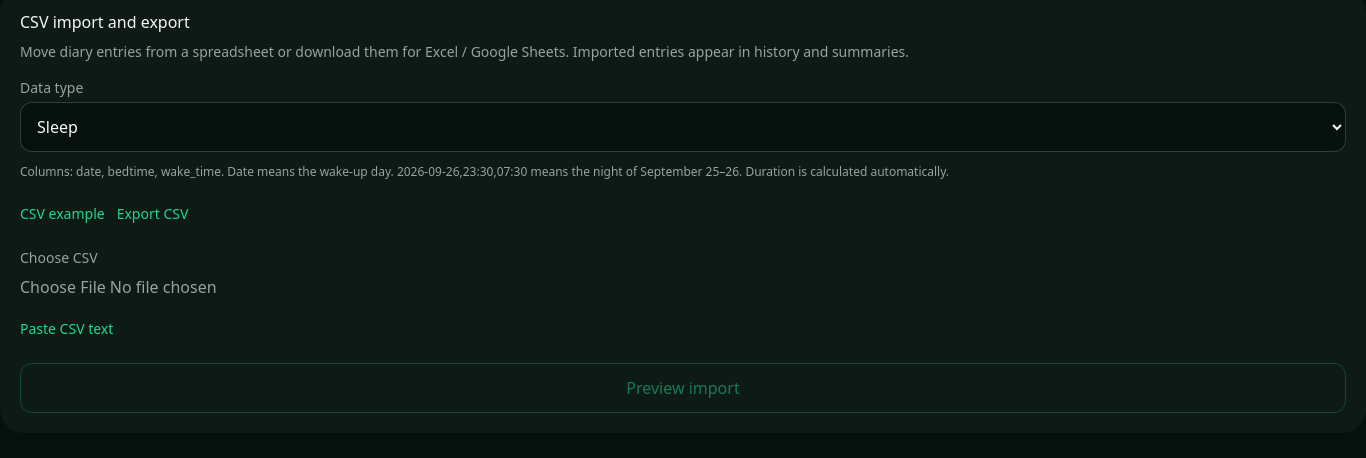
it: exports the selected diary as a CSV download
Select "Screen Time" in the dropdown labelled "Data type". click: (683, 127)
box: [20,102,1346,152]
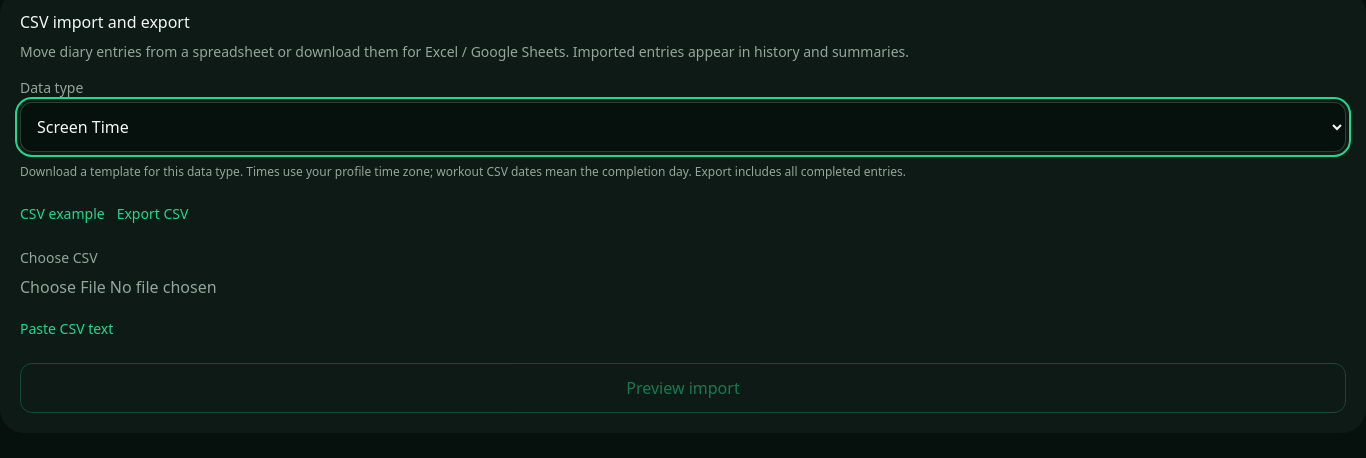
Click the button "Export CSV". click: (153, 214)
box: [117,192,188,236]
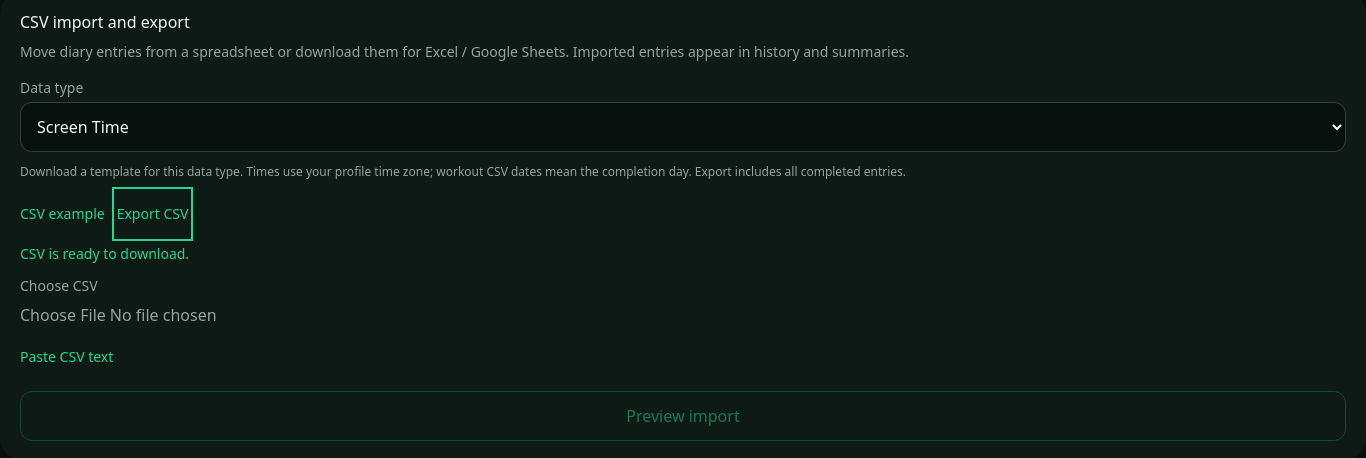
Result: the text "CSV is ready to download." is shown at [20,244,189,263]
